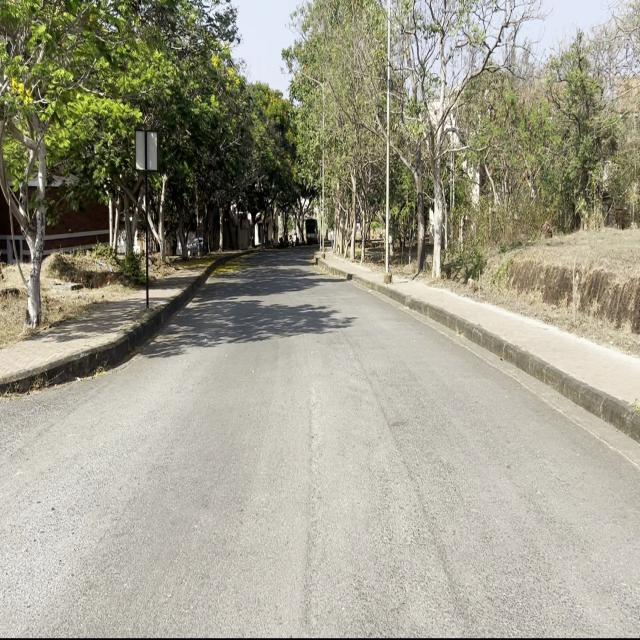Road: (2, 257, 637, 631)
